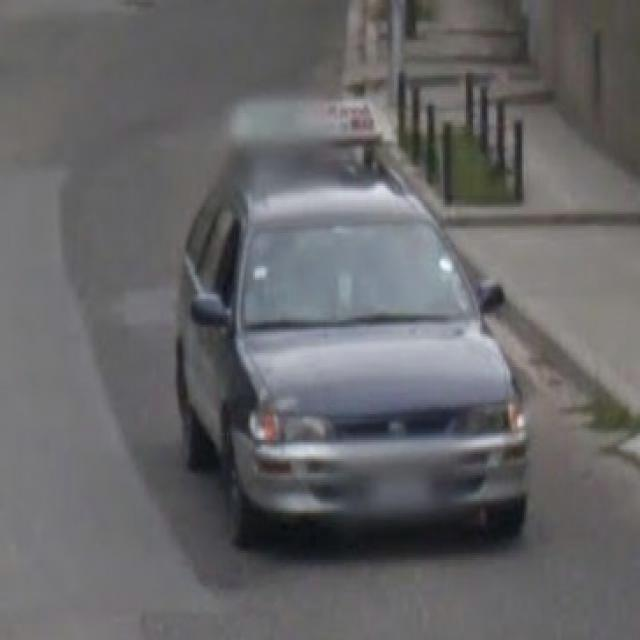Car: (169, 116, 524, 560)
